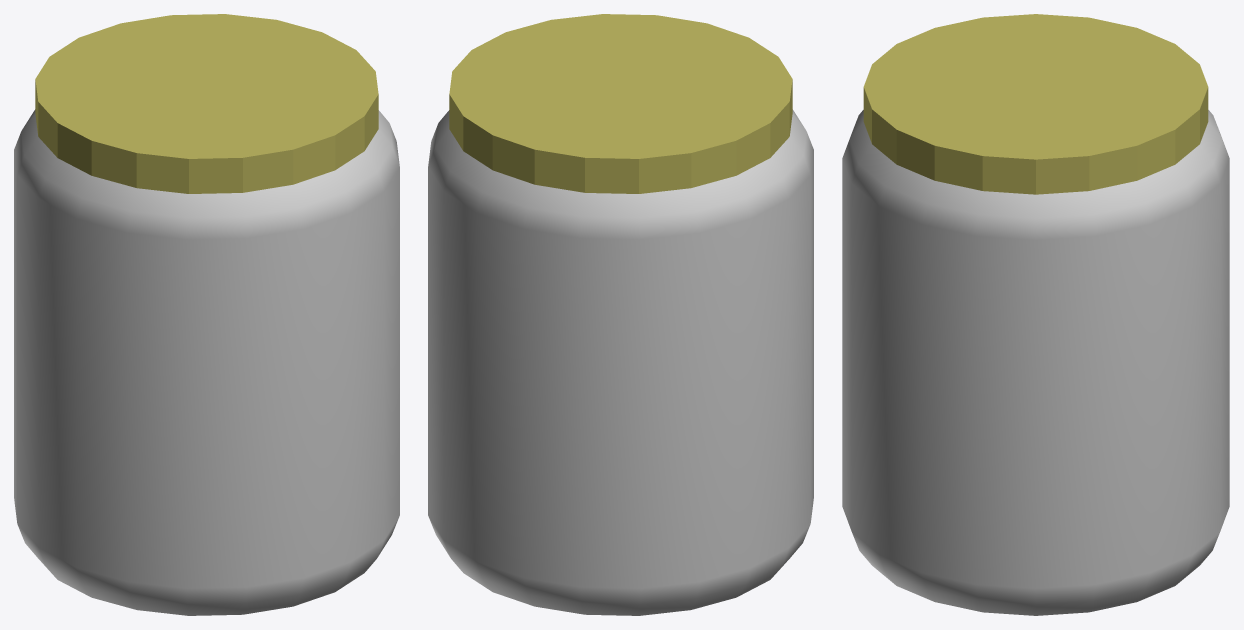
The model's file is pickleJarEmpty.fbx.
The picture shows the model from 3 angles, left to right: view 1: azimuth 30°, elevation 25°; view 2: azimuth 150°, elevation 25°; view 3: azimuth 270°, elevation 25°; orthographic projection.
Visible parts, largest first — view 1: pickleJar; view 2: pickleJar; view 3: pickleJar.
Boxes of the visible parts, x1=… form: pickleJar: x1=14, y1=14, x2=399, y2=615; pickleJar: x1=428, y1=14, x2=813, y2=615; pickleJar: x1=842, y1=14, x2=1229, y2=615.
Size of the model in its own units: 20 by 26 by 20.
